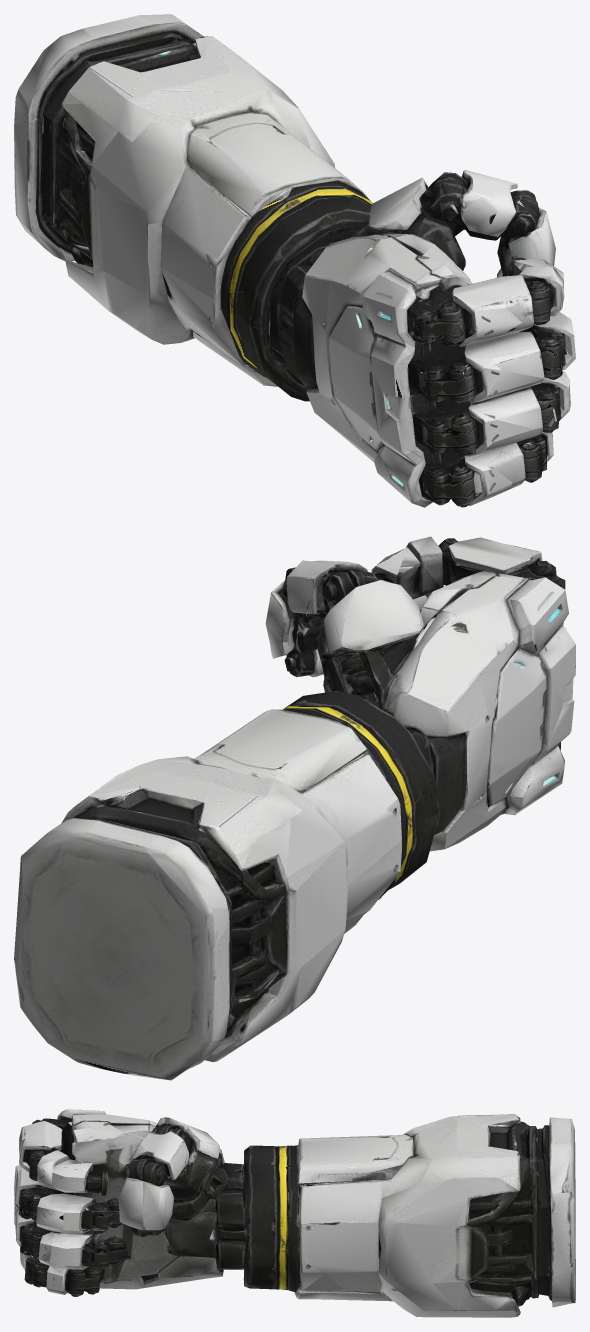
Rendered from Meshy_AI_Droid_Grip_Hand_balanced.glb.
3 views of the same model, one above another, from view 1: azimuth 30°, elevation 25°; view 2: azimuth 150°, elevation 25°; view 3: azimuth 270°, elevation 25° (orthographic). The views are drawn at different scales.
Visible parts, largest first — view 1: mesh_node; view 2: mesh_node; view 3: mesh_node.
Part boxes in pixels (<box>): mesh_node: <box>14,14,575,507</box>; mesh_node: <box>14,536,575,1080</box>; mesh_node: <box>14,1109,575,1317</box>.
Size of the model in its own units: 0.6712 by 0.7109 by 1.9.
1 material, 1 textured.
